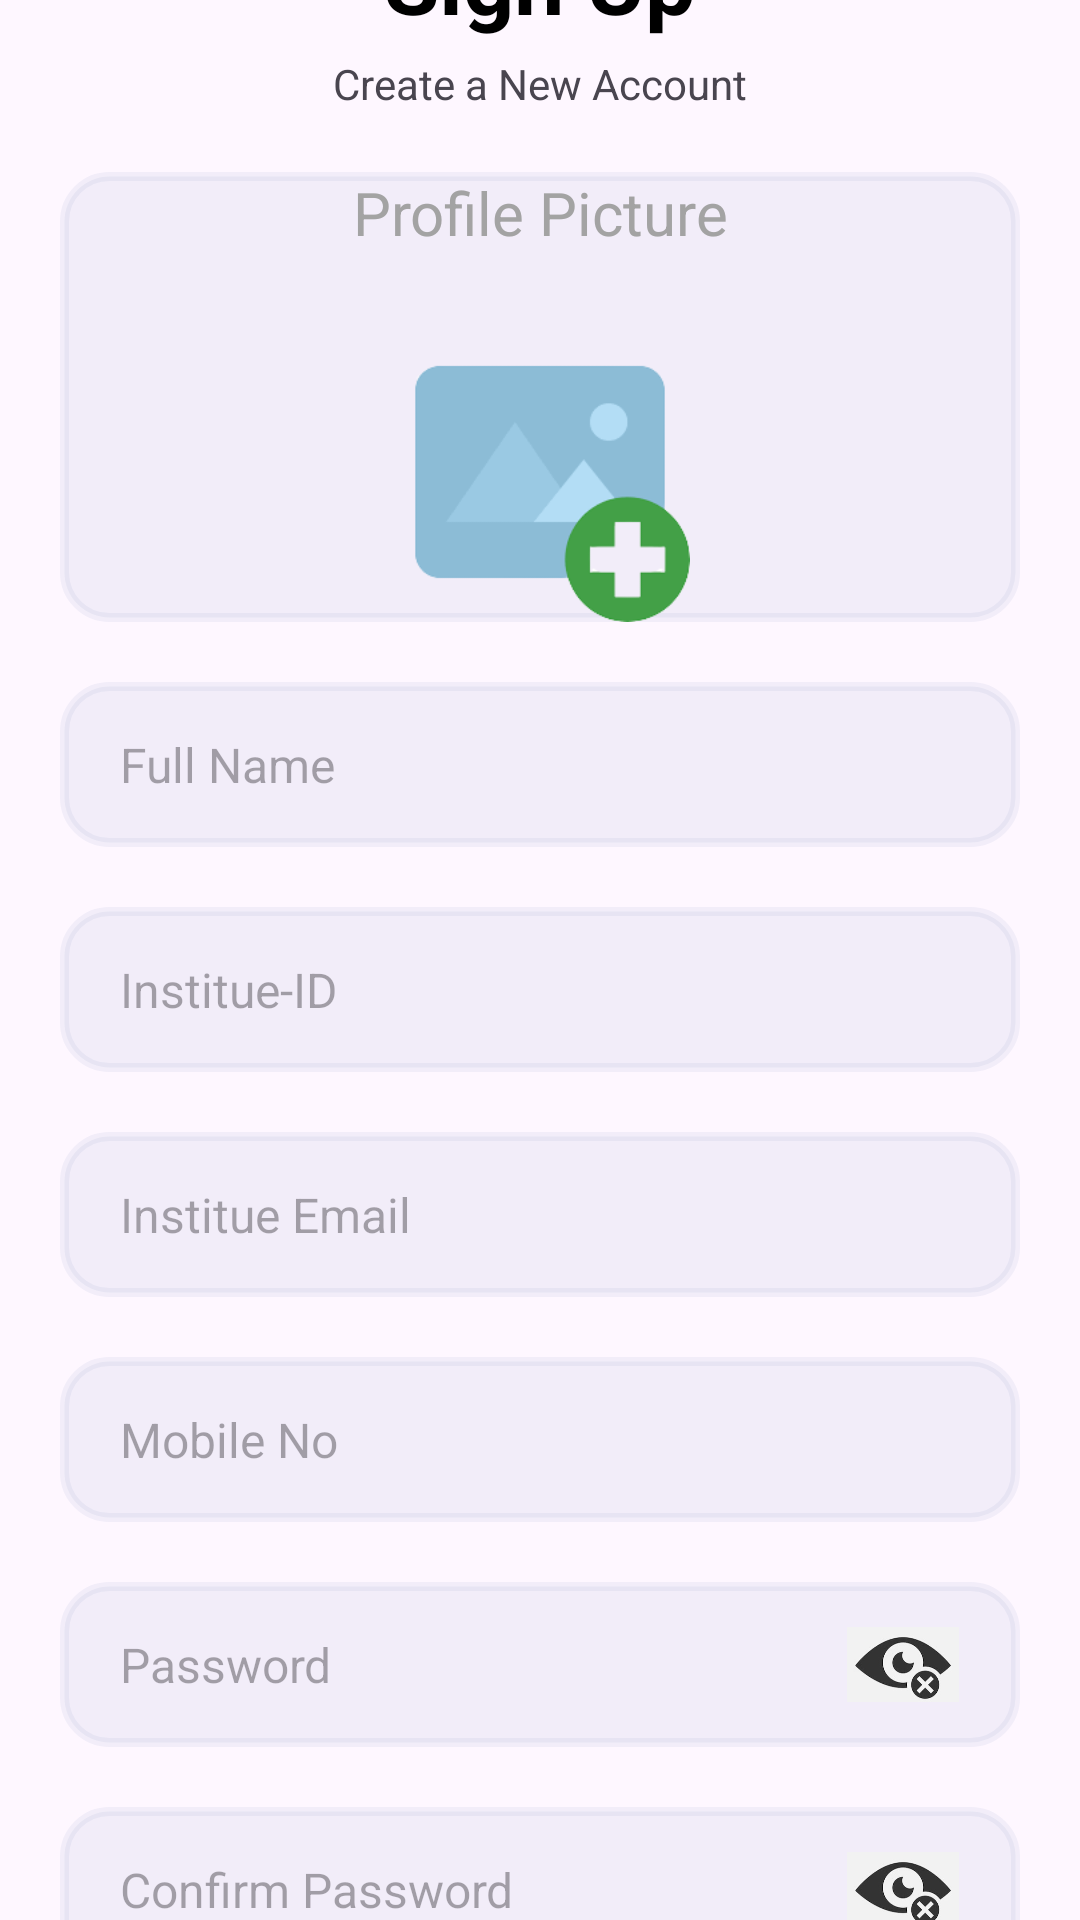

Screen size 1080×1920. Icon name, then its center in pixels as (x=x, y=y):
uimage: (x=552, y=494)
